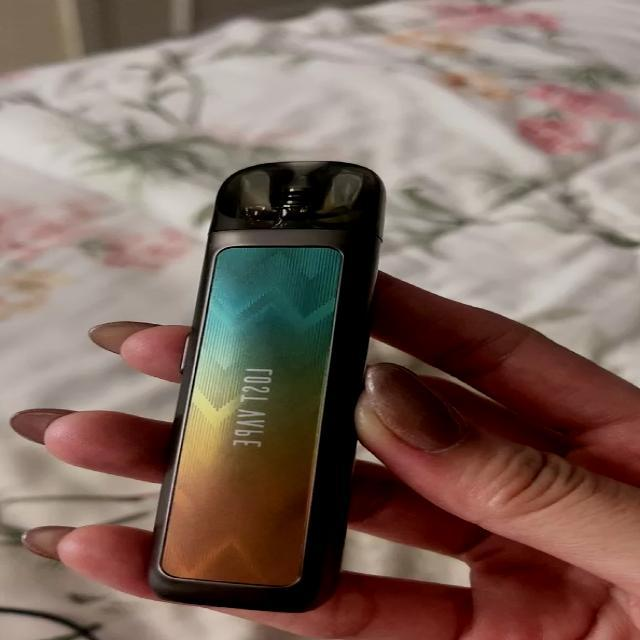Hazard: (145, 161, 390, 613)
